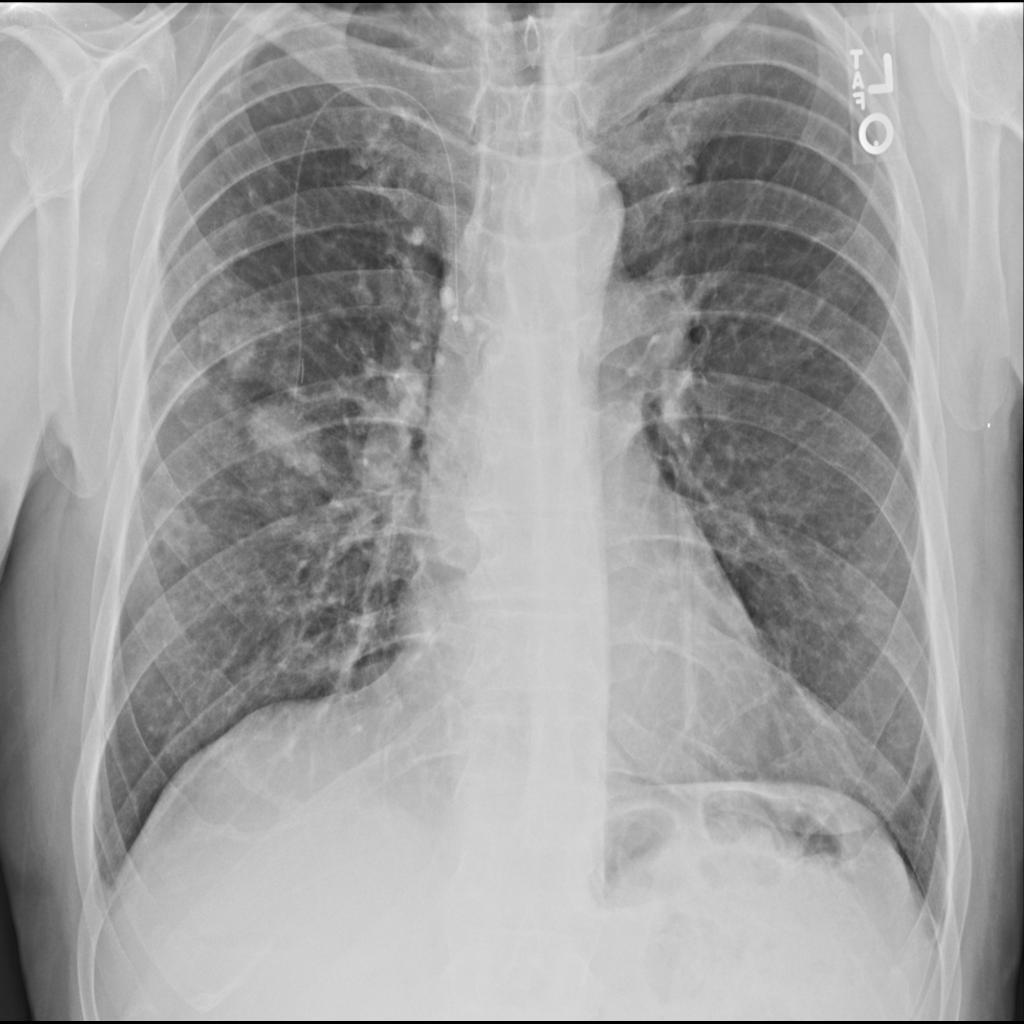Nodule: (247, 399, 334, 475), (213, 325, 262, 384), (153, 504, 200, 551)
